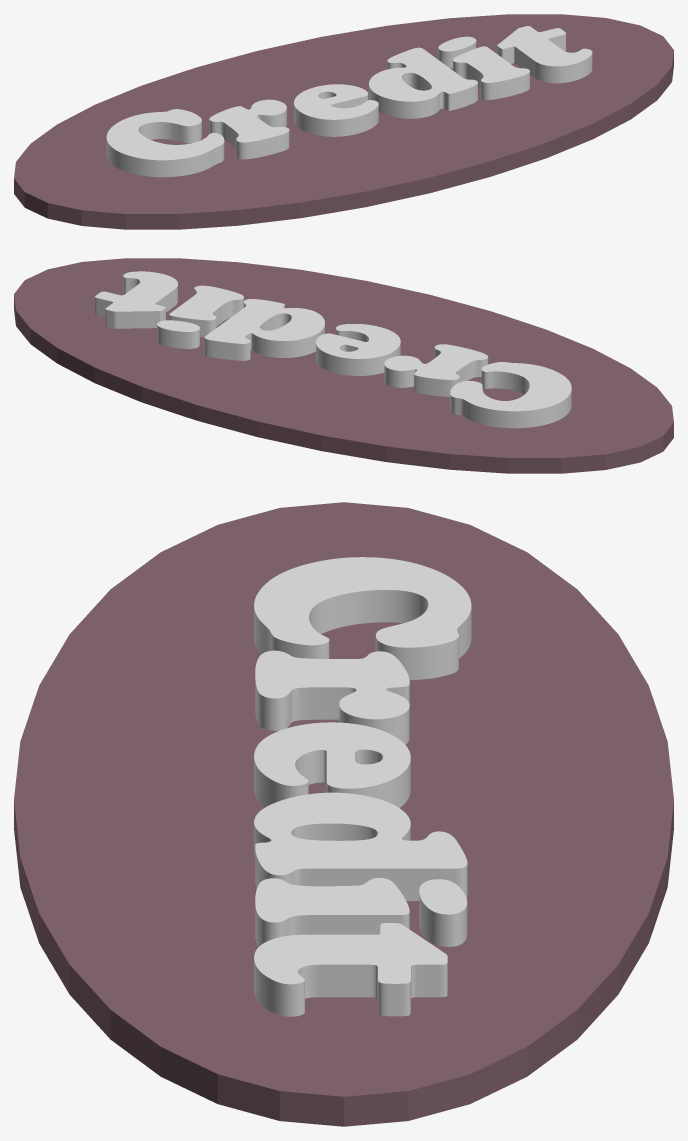
Rendered from creditpress.glb.
3 renders of one model, top to bottom at view 1: azimuth 30°, elevation 25°; view 2: azimuth 150°, elevation 25°; view 3: azimuth 270°, elevation 25°, orthographic. The views are drawn at different scales.
Visible parts, largest first — view 1: Cylinder, Text; view 2: Cylinder, Text; view 3: Cylinder, Text.
Boxes of the visible parts, bbox=[...] form: Cylinder: bbox=[14, 14, 673, 229]; Text: bbox=[106, 26, 592, 177]; Cylinder: bbox=[14, 258, 673, 473]; Text: bbox=[95, 271, 571, 428]; Cylinder: bbox=[14, 502, 673, 1126]; Text: bbox=[254, 557, 471, 1016].
Bounding box in the file's own units: 2.3 × 0.1127 × 1.08.
